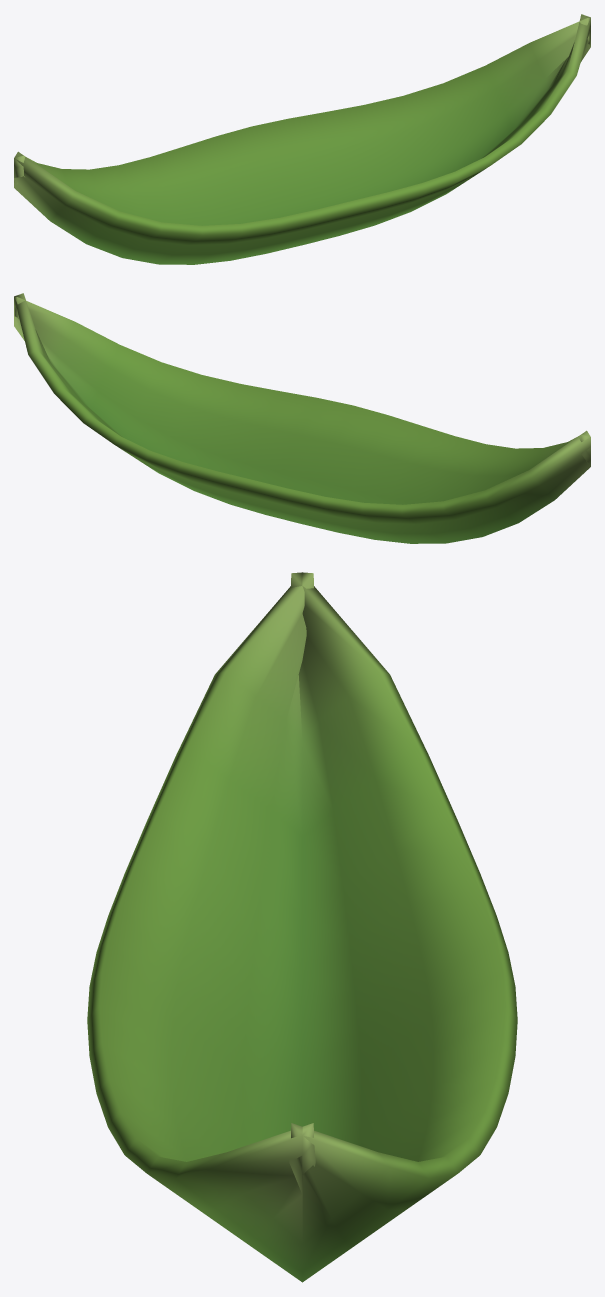
File: SasaBune.fbx
The picture shows the model from 3 angles, top to bottom: view 1: azimuth 30°, elevation 25°; view 2: azimuth 150°, elevation 25°; view 3: azimuth 270°, elevation 25°; orthographic projection. The views are drawn at different scales.
Visible parts, largest first — view 1: SasaBune; view 2: SasaBune; view 3: SasaBune.
Part boxes in pixels (<box>): SasaBune: <box>14,14,590,264</box>; SasaBune: <box>14,293,590,543</box>; SasaBune: <box>87,572,517,1282</box>.
Bounding box in the file's own units: 2.6 × 0.6907 × 0.84.
